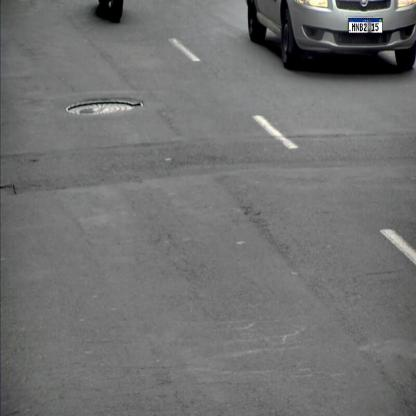PlacaM: (348, 18, 383, 33)
